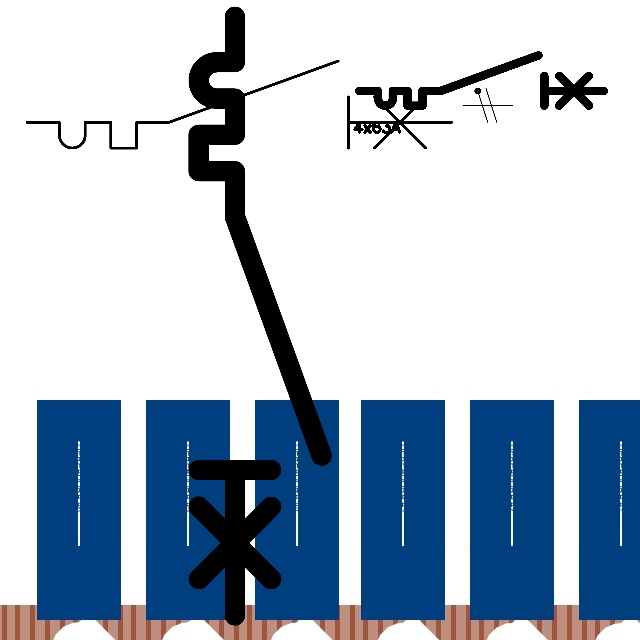interruptor_termomagnetico: (183, 1, 337, 631), (16, 50, 463, 159), (353, 49, 610, 112)
